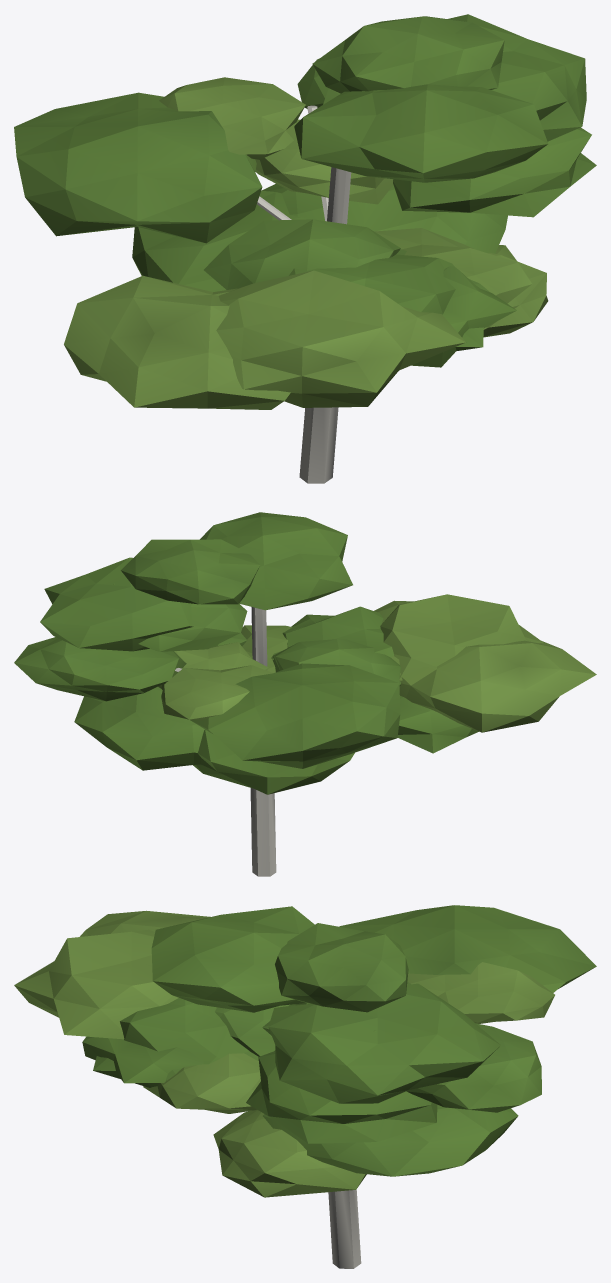
File: veg_bjork_0.glb
3 renders of one model, top to bottom at view 1: azimuth 30°, elevation 25°; view 2: azimuth 150°, elevation 25°; view 3: azimuth 270°, elevation 25°, orthographic. The views are drawn at different scales.
Parts seen in each view (by area): view 1: geometry_0; view 2: geometry_0; view 3: geometry_0.
Boxes of the visible parts, x1,y1,x2,y2 form: geometry_0: [14, 14, 596, 483]; geometry_0: [14, 512, 596, 876]; geometry_0: [14, 905, 596, 1268].
Size of the model in its own units: 1.51 by 1 by 1.46.
